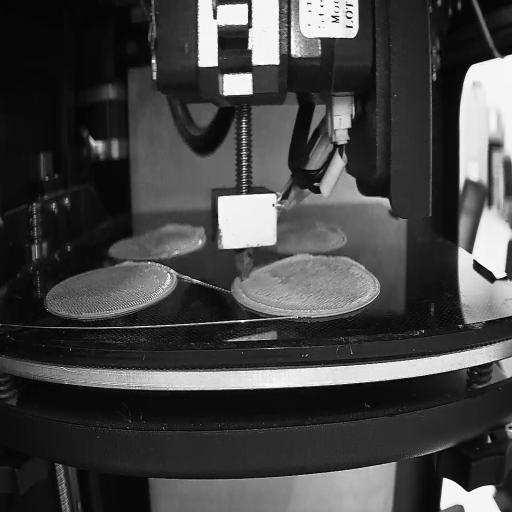over_extrusion: (254, 250, 317, 274), (232, 276, 263, 308), (160, 222, 212, 240), (340, 228, 350, 248), (116, 260, 140, 266)
